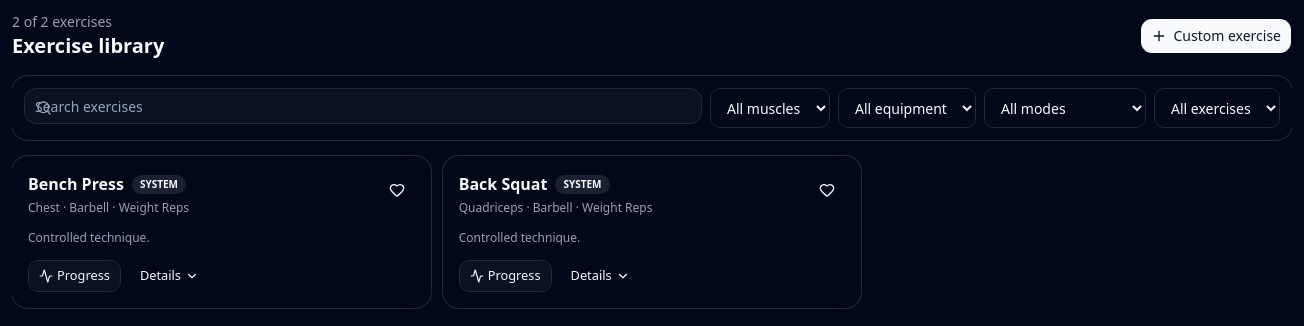
Test: ExerciseLibrary › filters the catalog by search text
Type "bench" into the field with placeholder "Search exercises" at (363, 106), box x1=24 y1=88 x2=702 y2=124
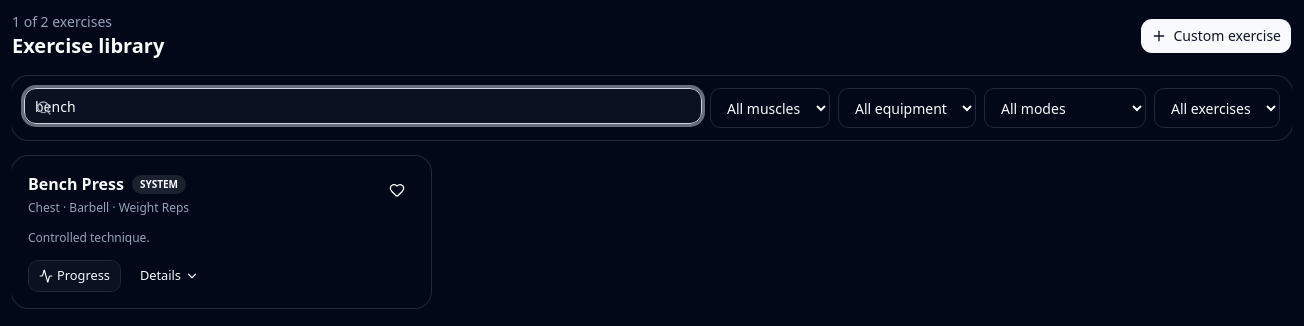
Expected: the heading "Bench Press" is shown, x1=28 y1=172 x2=124 y2=196
Now the heading "Back Squat" is gone
